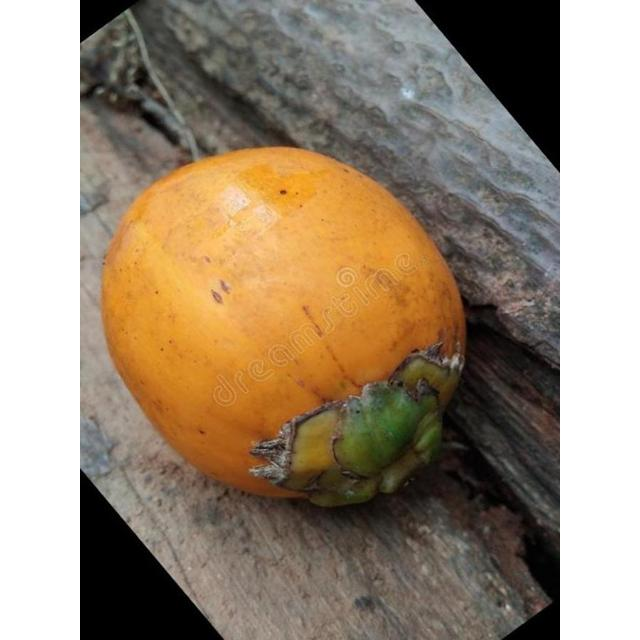good: (98, 146, 468, 512)
